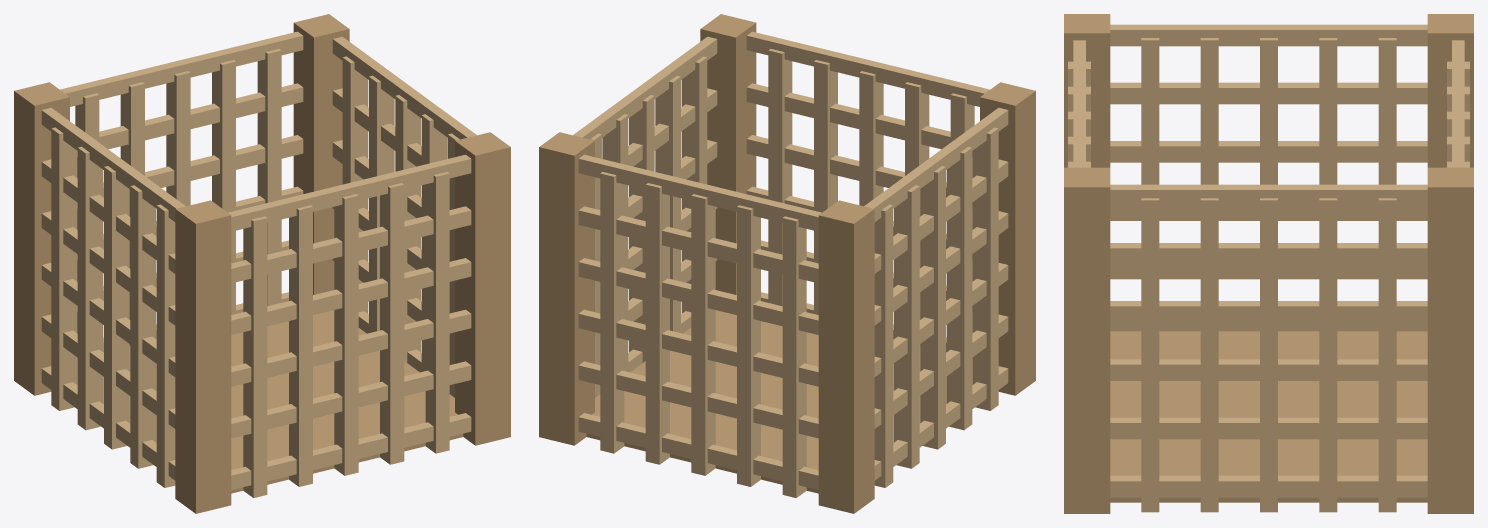
The model's file is box_big.glb.
3 views of the same model, side by side, from view 1: azimuth 30°, elevation 25°; view 2: azimuth 150°, elevation 25°; view 3: azimuth 270°, elevation 25° (orthographic). The views are drawn at different scales.
Parts seen in each view (by area): view 1: box_big; view 2: box_big; view 3: box_big.
Part boxes in pixels (box(x1,y1,x2,y2)): box_big: box(14, 14, 510, 513); box_big: box(539, 14, 1035, 513); box_big: box(1064, 14, 1473, 513).
Size of the model in its own units: 1.25 by 1.1 by 1.25.
